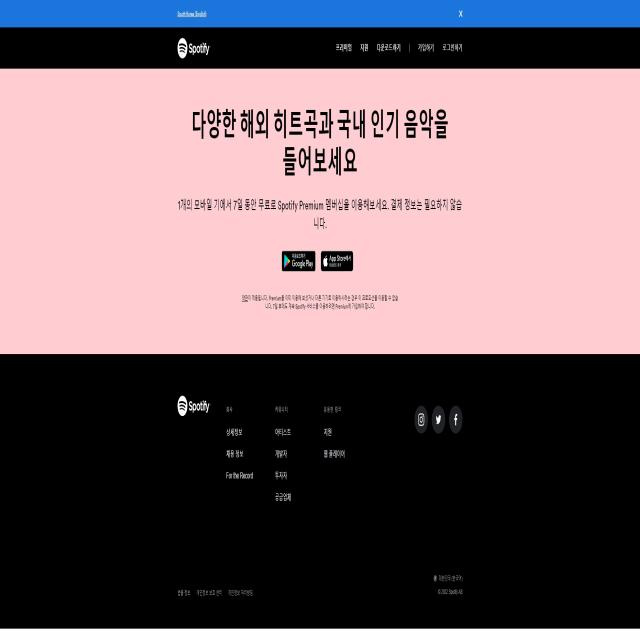menu-bar: (334, 38, 464, 63)
